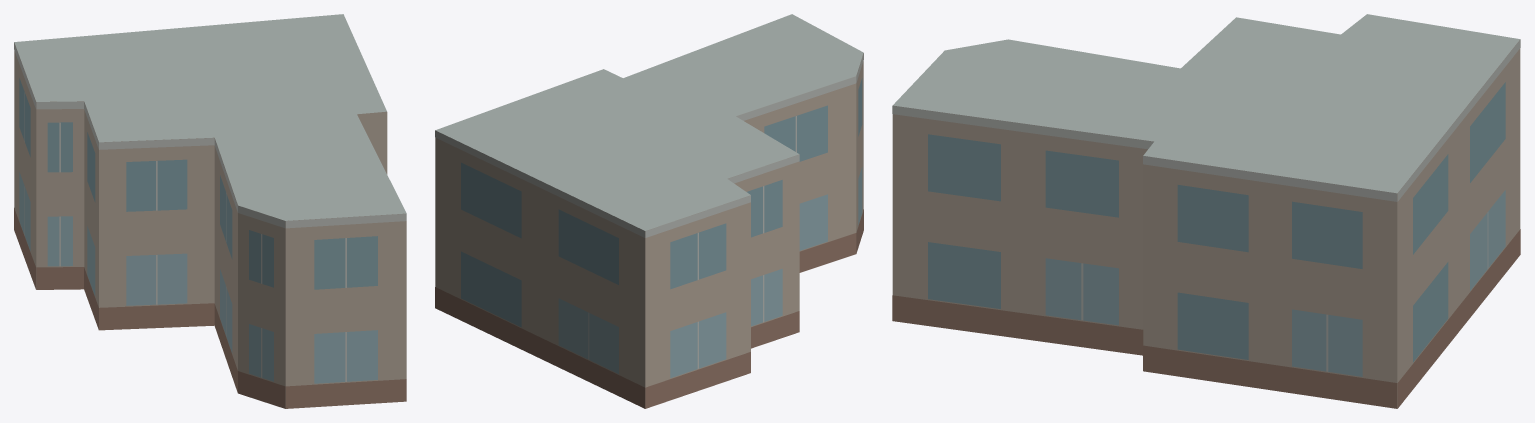
Rendered from survey-upis-32752433.glb.
3 renders of one model, left to right at view 1: azimuth 30°, elevation 25°; view 2: azimuth 150°, elevation 25°; view 3: azimuth 270°, elevation 25°, orthographic. The views are drawn at different scales.
Visible parts, largest first — view 1: survey-upis-32752433.tmp; view 2: survey-upis-32752433.tmp; view 3: survey-upis-32752433.tmp.
Part boxes in pixels (x1=…): survey-upis-32752433.tmp: x1=14, y1=14, x2=406, y2=408; survey-upis-32752433.tmp: x1=435, y1=14, x2=863, y2=408; survey-upis-32752433.tmp: x1=892, y1=14, x2=1520, y2=408.
Bounding box in the file's own units: 10.9 × 6.1 × 16.12.
